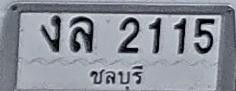1: (148, 17, 162, 53), (174, 17, 186, 53)
2: (118, 16, 140, 52)
5: (194, 18, 215, 54)
A07: (40, 14, 61, 52)
A36: (70, 15, 94, 52)
CBI: (84, 63, 144, 91)
